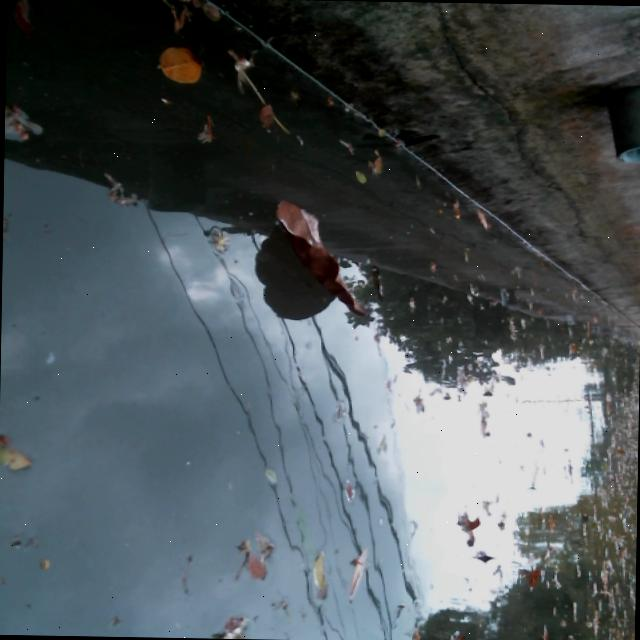Big-leaf: (271, 196, 372, 321)
Small-leaf: (150, 40, 207, 88), (203, 609, 259, 639), (5, 0, 45, 38), (304, 547, 331, 603), (348, 542, 372, 602), (0, 440, 35, 477), (252, 455, 285, 492), (455, 511, 485, 551), (241, 547, 269, 585), (468, 205, 496, 235), (337, 473, 360, 507), (366, 145, 389, 178), (352, 167, 375, 189), (474, 550, 499, 566)
